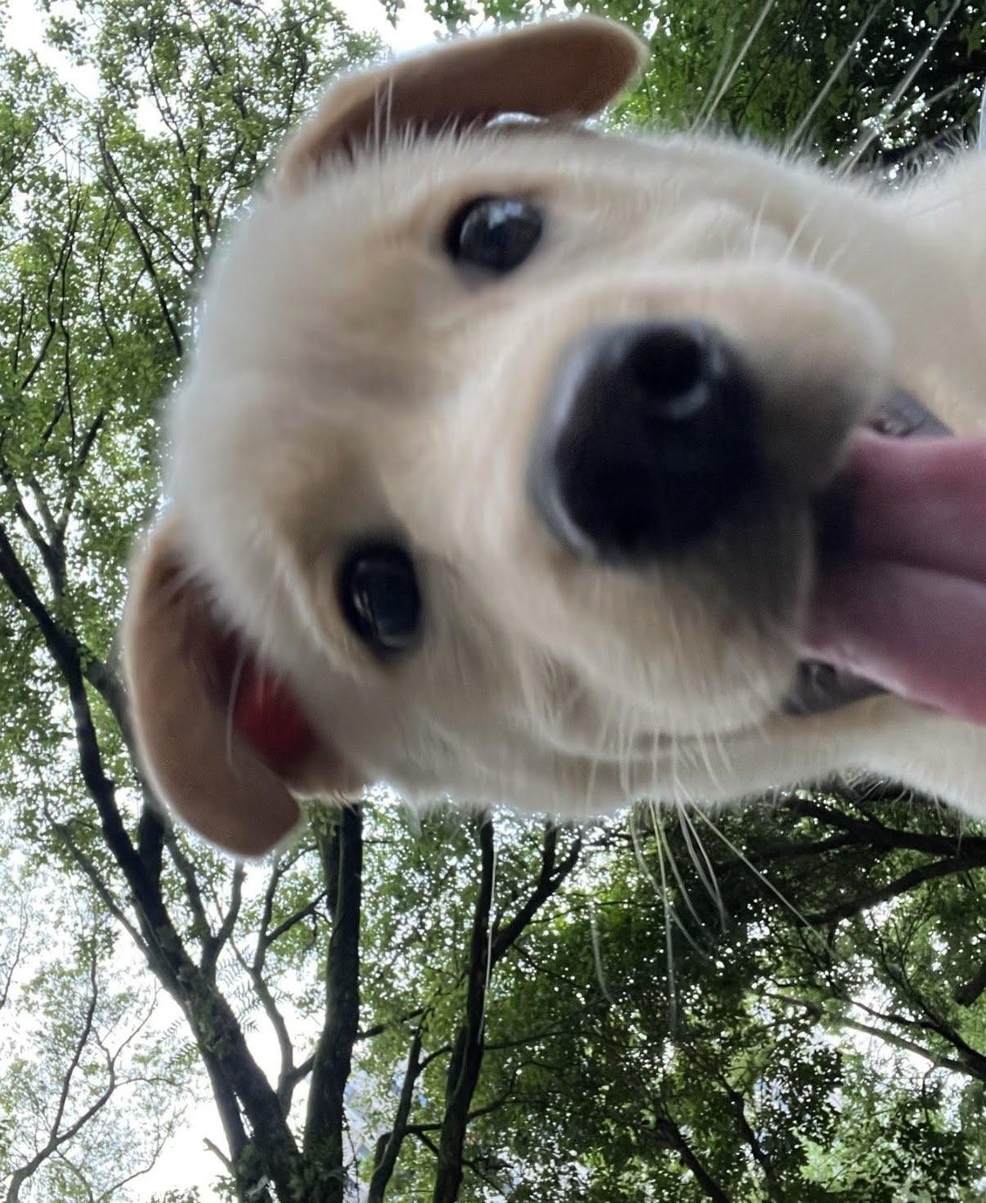puppy-dog: (111, 12, 986, 860)
